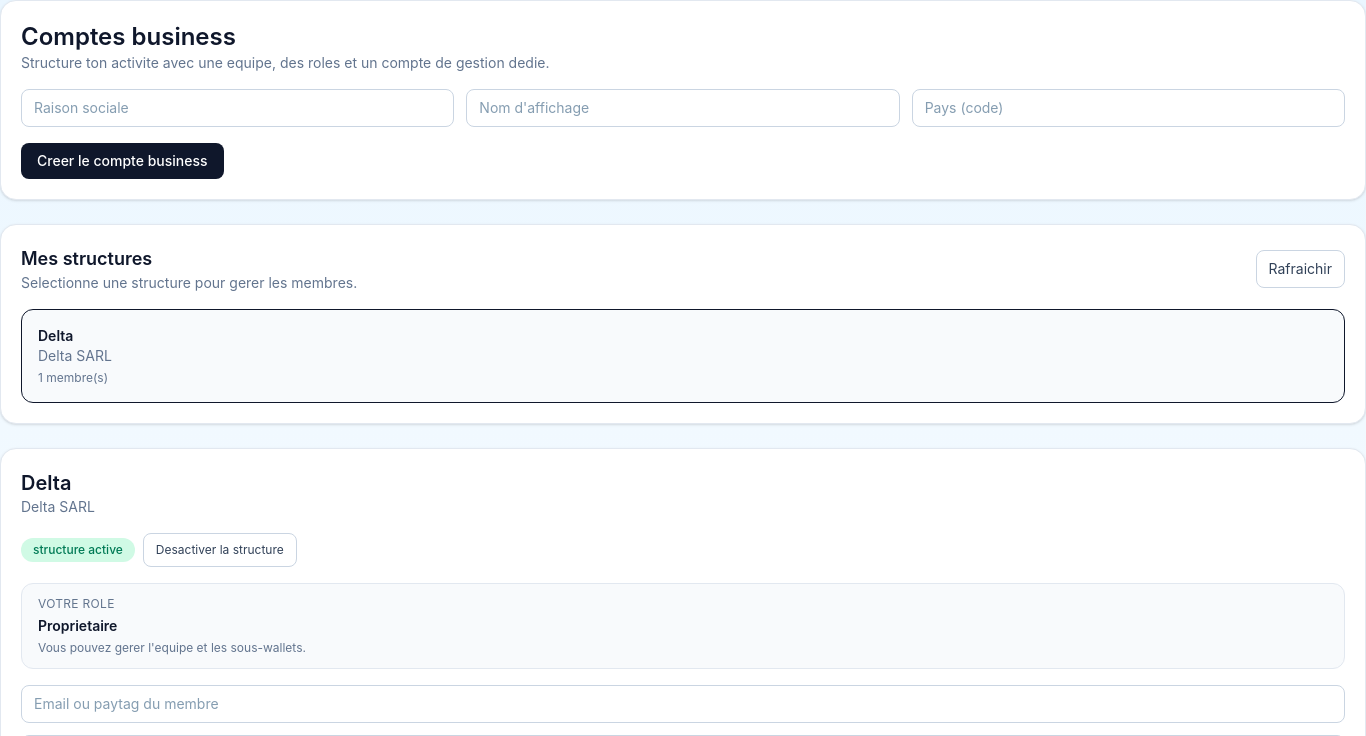
BusinessAccountsPage › allows owner to deactivate then reactivate a business structure
Expected: the text "structure active" is shown, [21, 538, 135, 562]
Click the button "Desactiver la structure": (220, 550) [143, 533, 297, 567]
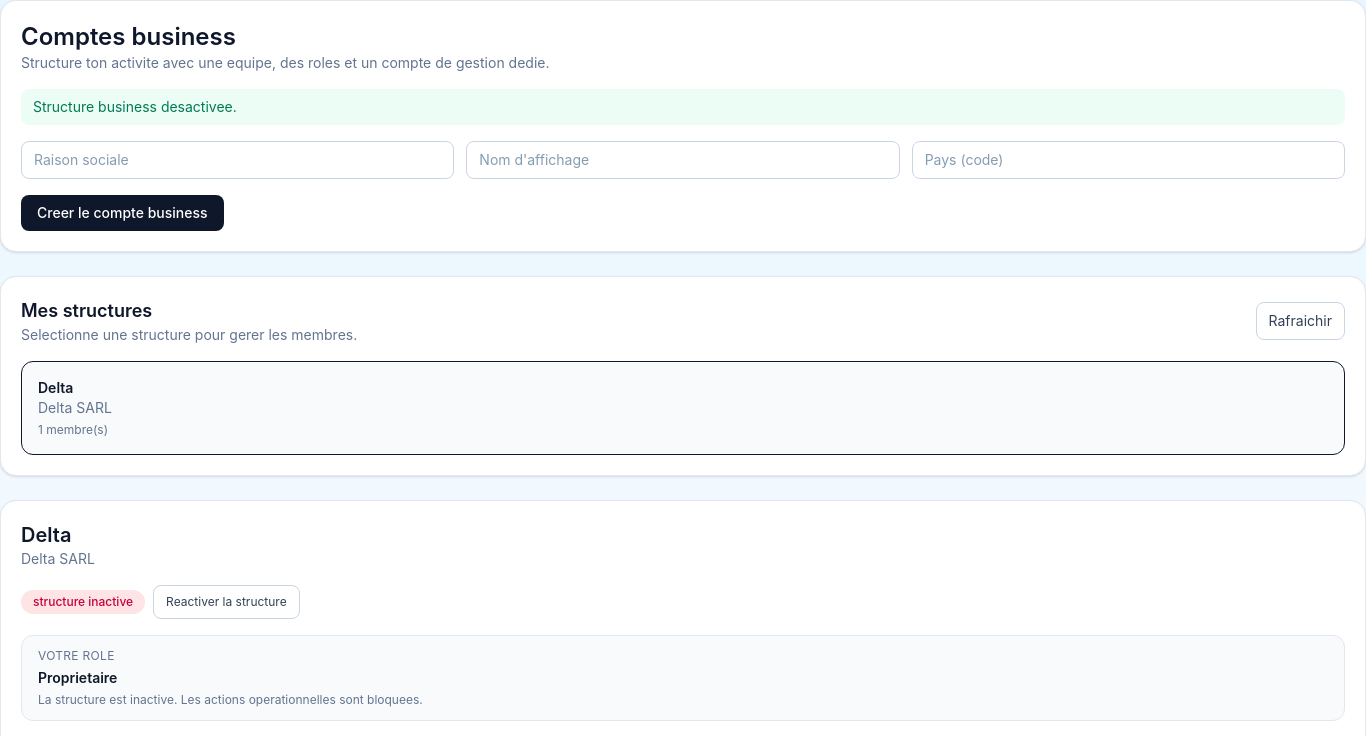
Expected: the text "structure inactive" is shown, [21, 590, 145, 614]
Click the button "Reactiver la structure": (226, 602) [153, 585, 300, 619]
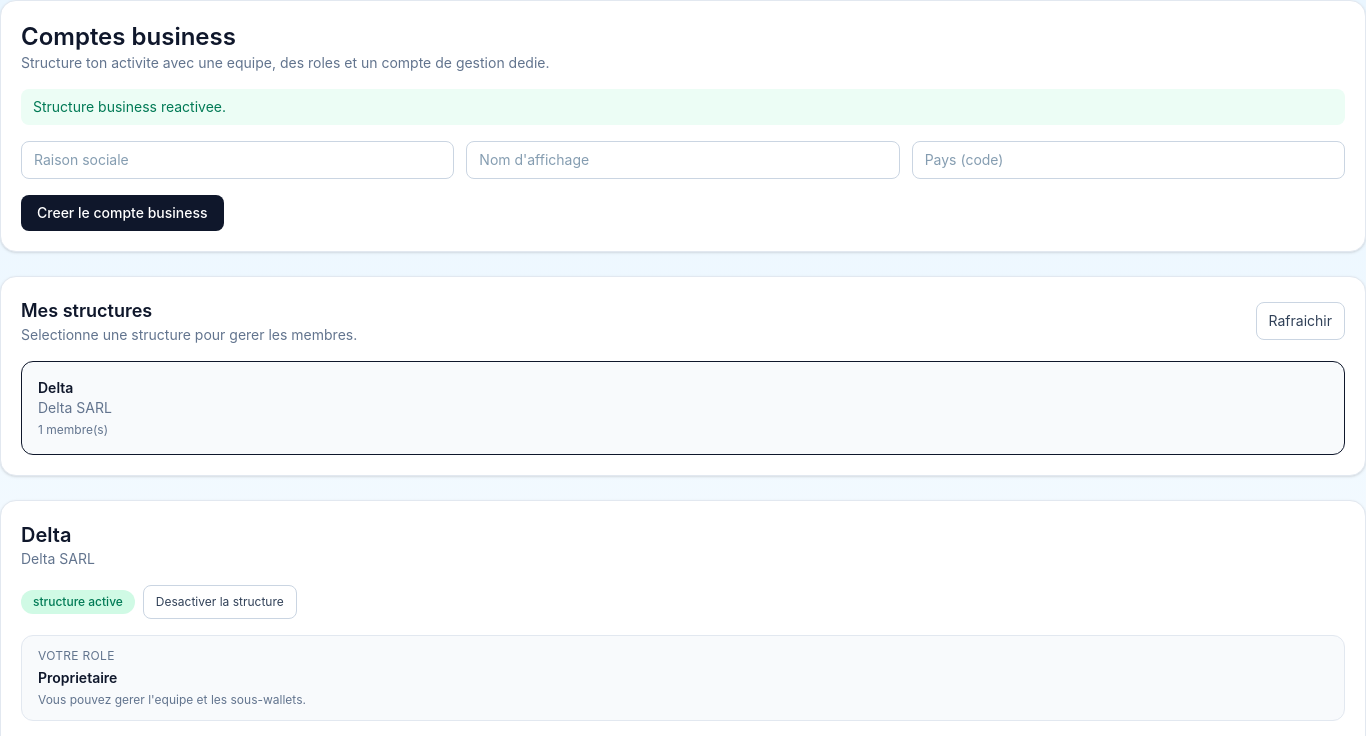
Expected: the text "structure active" is shown, [21, 590, 135, 614]
